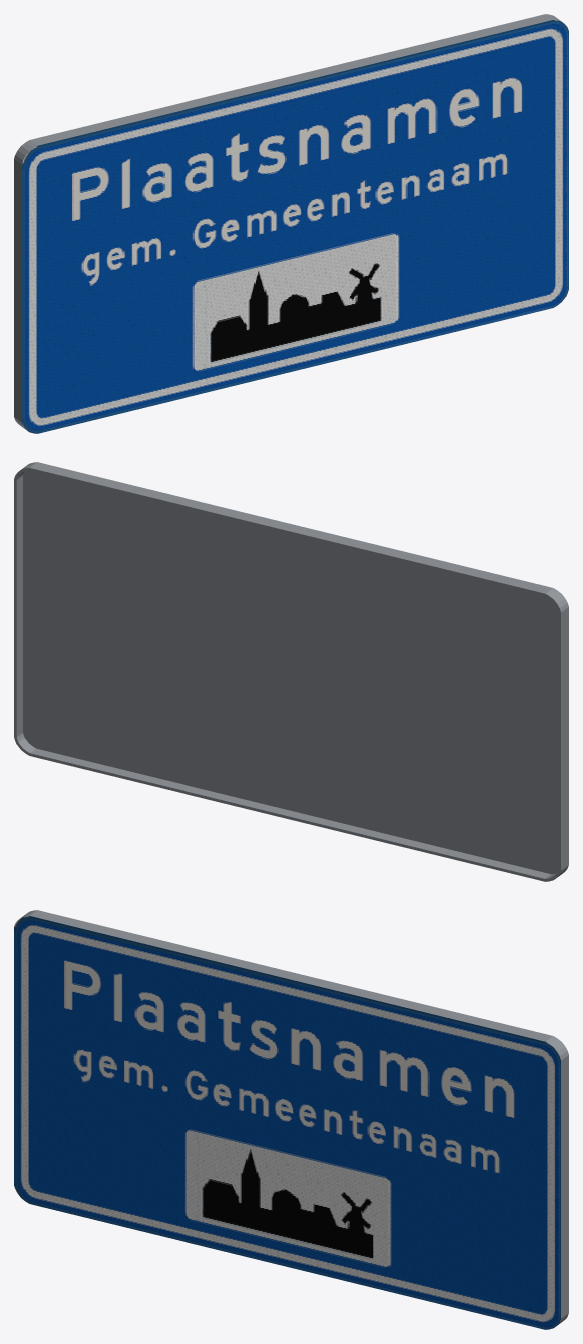
3 views of the same model, one above another, from view 1: azimuth 30°, elevation 25°; view 2: azimuth 150°, elevation 25°; view 3: azimuth 330°, elevation 25° (orthographic).
Visible parts, largest first — view 1: cat_b7cb0b5f49ceb212; view 2: cat_b7cb0b5f49ceb212; view 3: cat_b7cb0b5f49ceb212.
Part boxes in pixels (bbox=[...]): cat_b7cb0b5f49ceb212: bbox=[14, 14, 568, 433]; cat_b7cb0b5f49ceb212: bbox=[14, 462, 568, 881]; cat_b7cb0b5f49ceb212: bbox=[14, 910, 568, 1329].
Bounding box in the file's own units: 0.6 × 0.015 × 0.302.
Materials: 2 (1 with a texture image).
